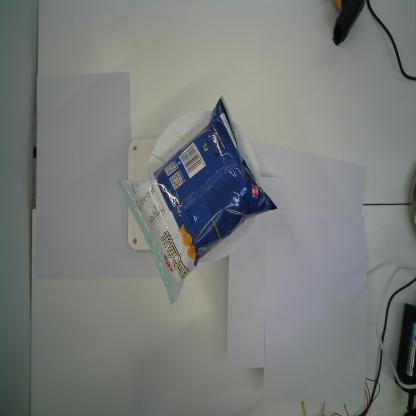Puffed Food: (116, 94, 279, 307)
